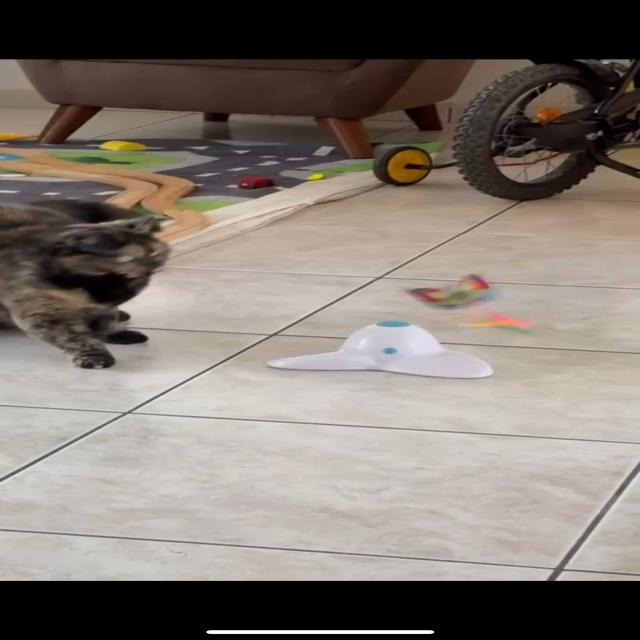authorized: (0, 198, 171, 369)
